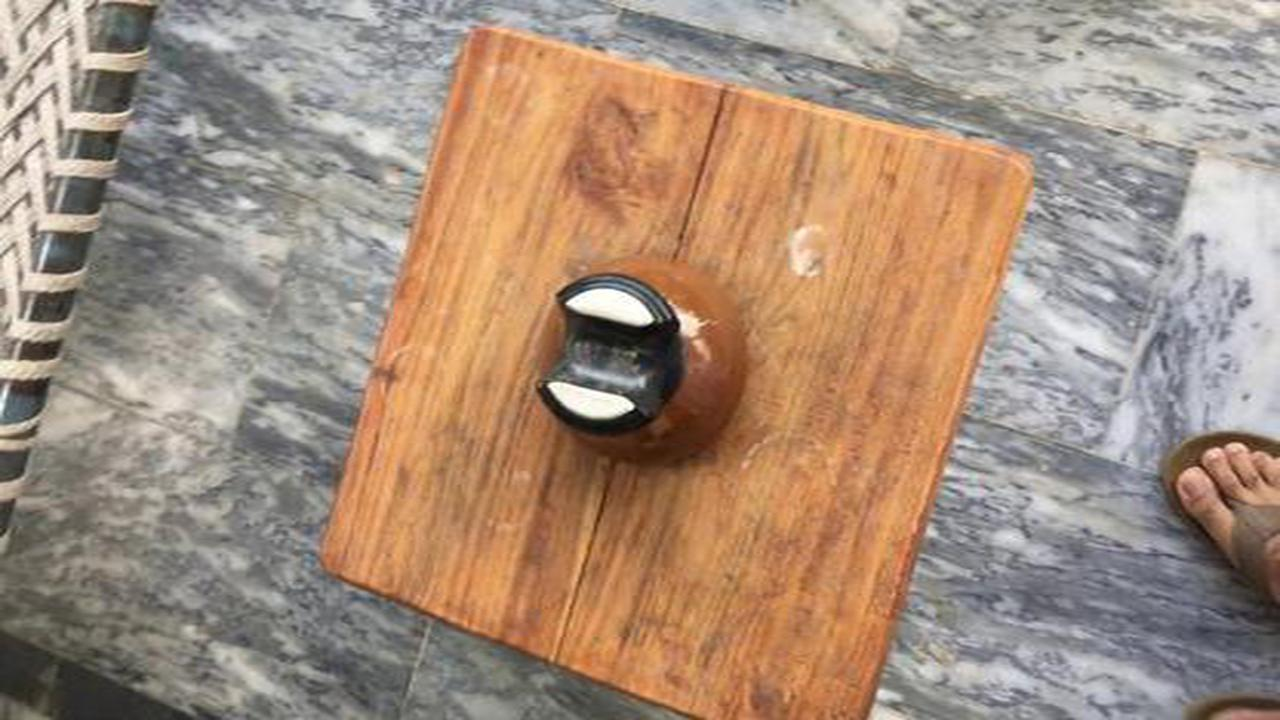insulator_pin: (502, 245, 757, 483)
